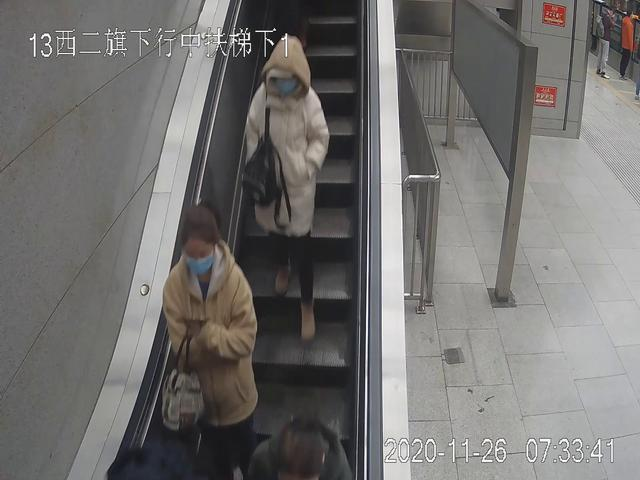person: (162, 205, 257, 480), (246, 37, 330, 340), (595, 8, 614, 80), (619, 11, 634, 80)
